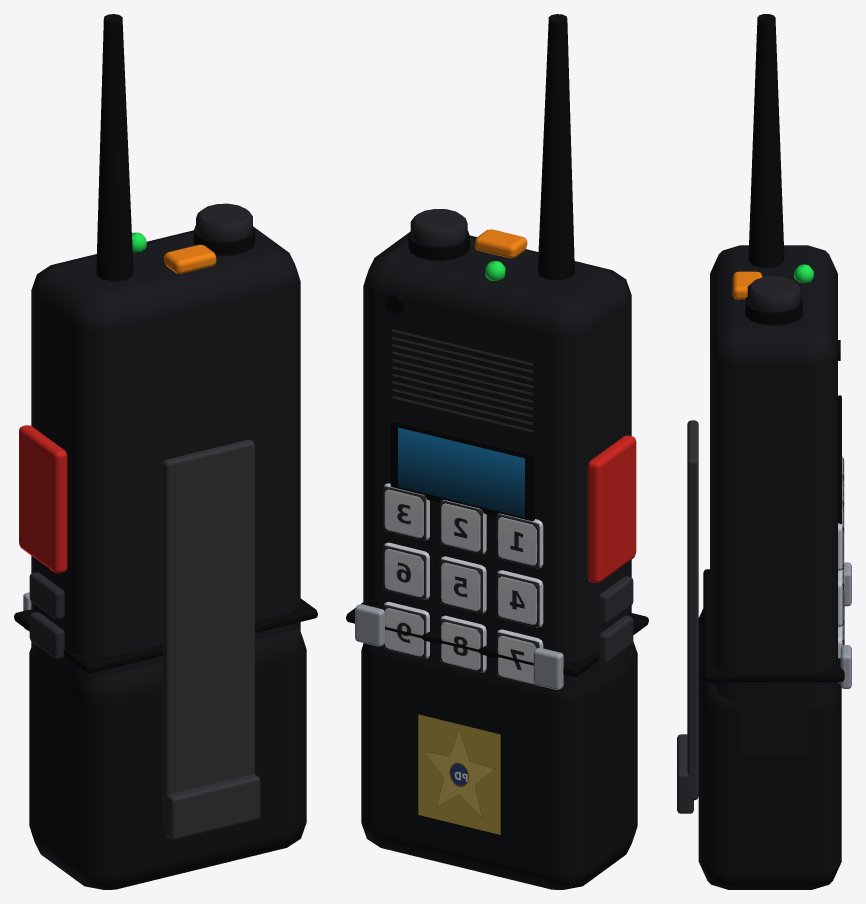
Rendered from PoliceRadio.obj.
3 renders of one model, left to right at view 1: azimuth 30°, elevation 25°; view 2: azimuth 150°, elevation 25°; view 3: azimuth 270°, elevation 25°, orthographic. The views are drawn at different scales.
Bounding box in the file's own units: 0.0703 × 0.236 × 0.0465.
